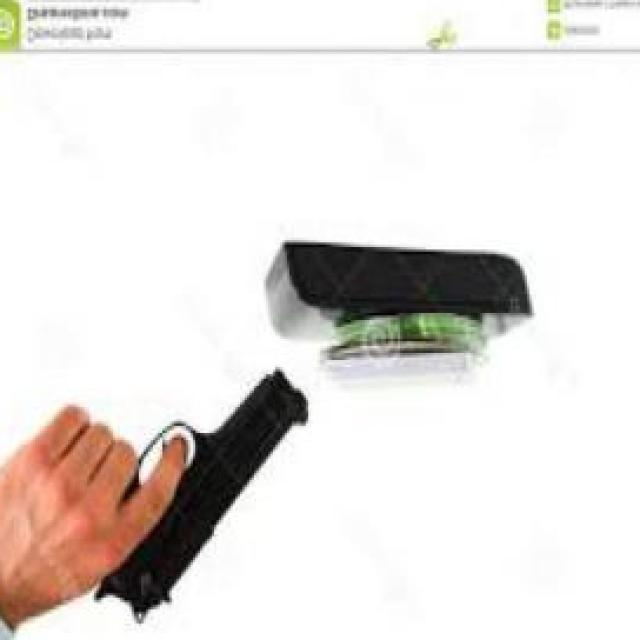pistol: (45, 353, 314, 638)
